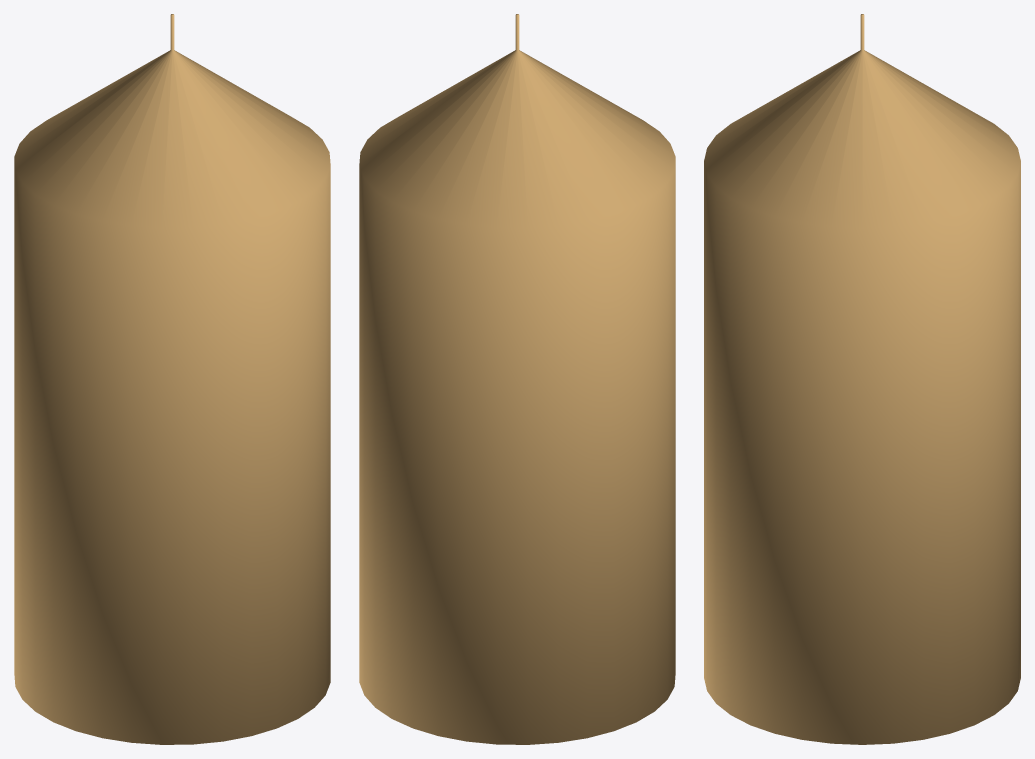
Rendered from Bougie.fbx.
The picture shows the model from 3 angles, left to right: view 1: azimuth 30°, elevation 25°; view 2: azimuth 150°, elevation 25°; view 3: azimuth 270°, elevation 25°; orthographic projection.
Visible parts, largest first — view 1: Bougie; view 2: Bougie; view 3: Bougie.
Part boxes in pixels (<box>): Bougie: <box>14,14,330,744</box>; Bougie: <box>359,14,675,744</box>; Bougie: <box>704,14,1020,744</box>.
Size of the model in its own units: 20 by 46.19 by 20.
